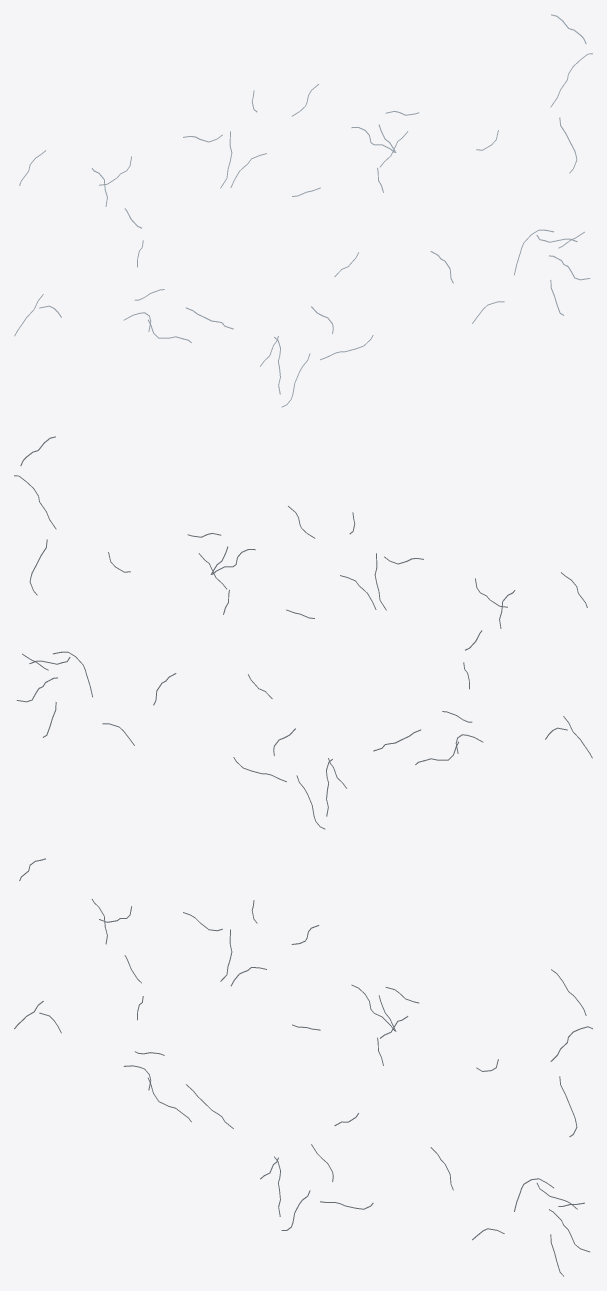
File: 2051_PotionThrow_Overall_GroundPattern0.fbx
The picture shows the model from 3 angles, top to bottom: view 1: azimuth 30°, elevation 25°; view 2: azimuth 150°, elevation 25°; view 3: azimuth 330°, elevation 25°; orthographic projection.
Parts seen in each view (by area): view 1: PART_Pyro_ContinuousPattern0; view 2: PART_Pyro_ContinuousPattern0; view 3: PART_Pyro_ContinuousPattern0.
Boxes of the visible parts, left/top/right/bottom form: PART_Pyro_ContinuousPattern0: left=14, top=14, right=592, bottom=407; PART_Pyro_ContinuousPattern0: left=14, top=436, right=592, bottom=829; PART_Pyro_ContinuousPattern0: left=14, top=858, right=592, bottom=1276.
Size of the model in its own units: 1918 by 1037 by 0.000169.
